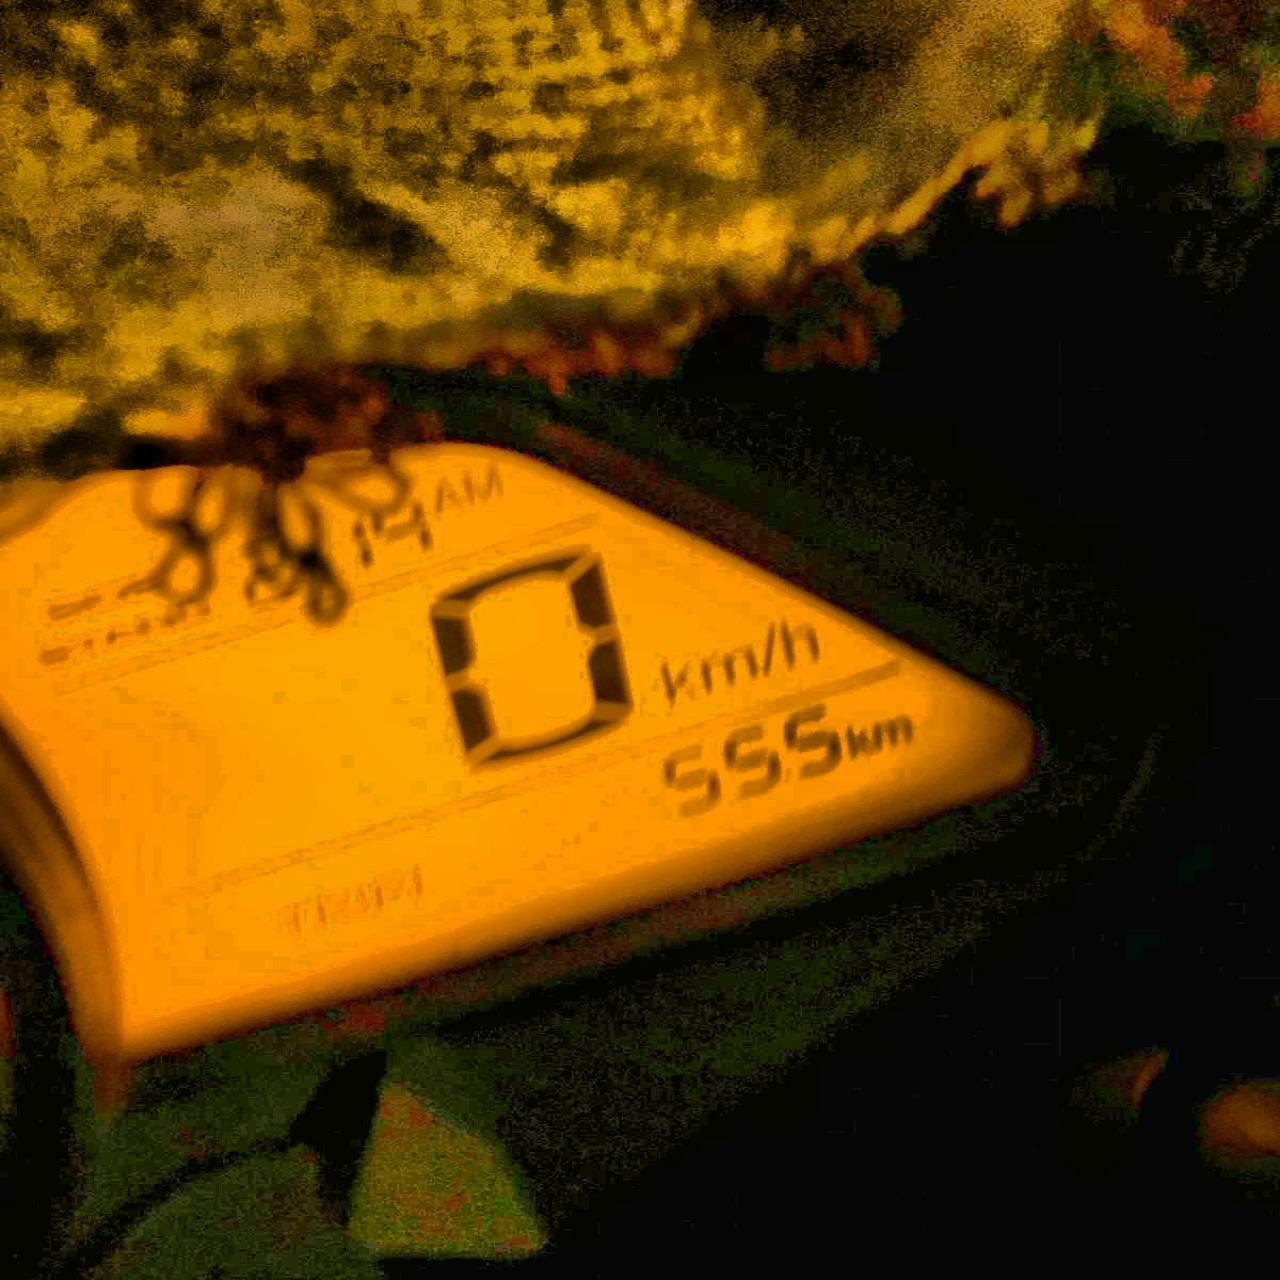0: (431, 551, 639, 763)
5: (659, 744, 717, 815), (723, 722, 776, 797), (785, 702, 842, 772)
X: (655, 653, 699, 712), (701, 646, 754, 694), (778, 613, 825, 666), (273, 893, 311, 948), (756, 618, 784, 683), (315, 881, 354, 928), (369, 865, 408, 911), (873, 715, 918, 749), (462, 470, 503, 499), (430, 476, 465, 510), (847, 721, 870, 762), (354, 873, 370, 918)
odometer: (8, 434, 1055, 1060)
